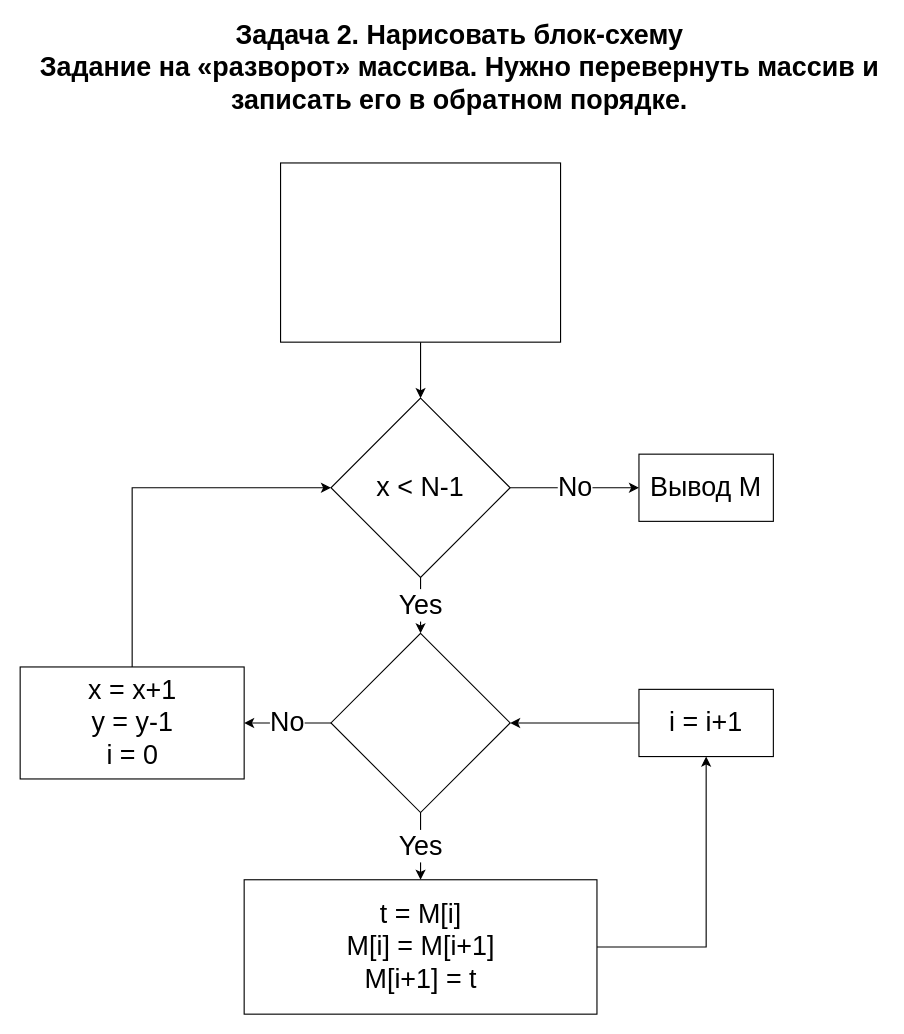
The diagram is 904 pixels wide and 1034 high, and some of its shapes have lost their labels. Each missing label, with the box of its shape:
i < y-1: (330, 632, 510, 813)
массив M размерность N i = 0 x = 0 y = N: (279, 162, 561, 342)
